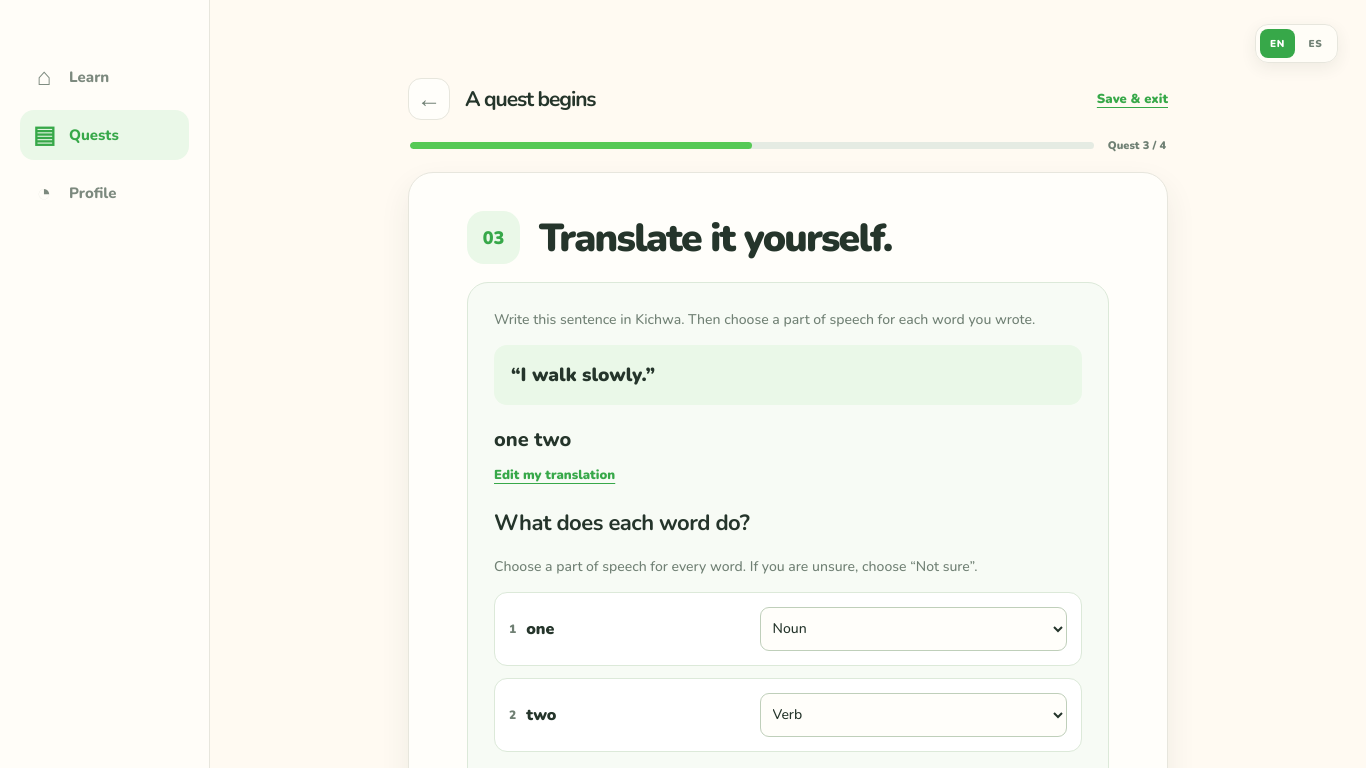
Test: rebuilds word labels after the user edits their translation
Click the button "Edit my translation" at (555, 475), box [494,466,615,484]
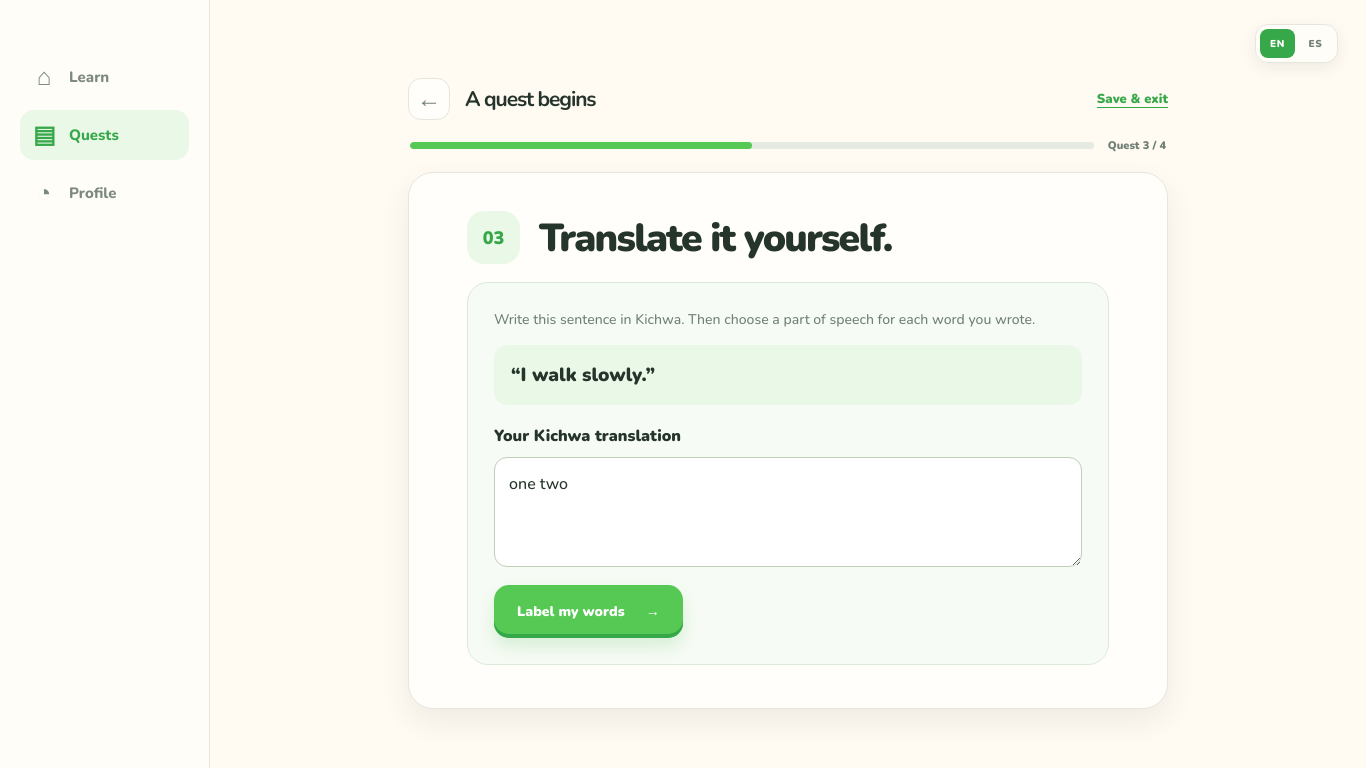
Replace the text in the text box labelled "Your Kichwa translation" with "three" at (788, 512), box [494,457,1082,567]
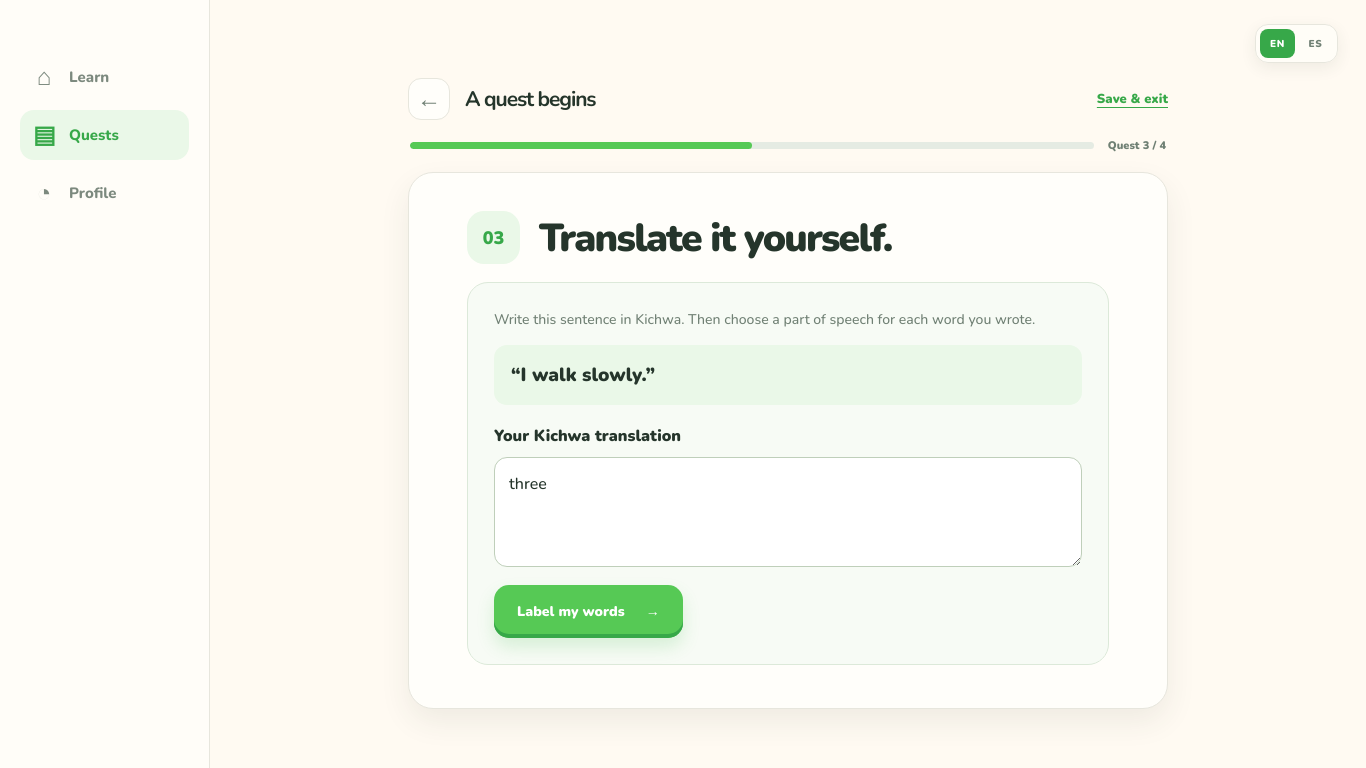
Click the button "Label my words →" at (588, 612), box [494,585,683,638]
(page scrolled)
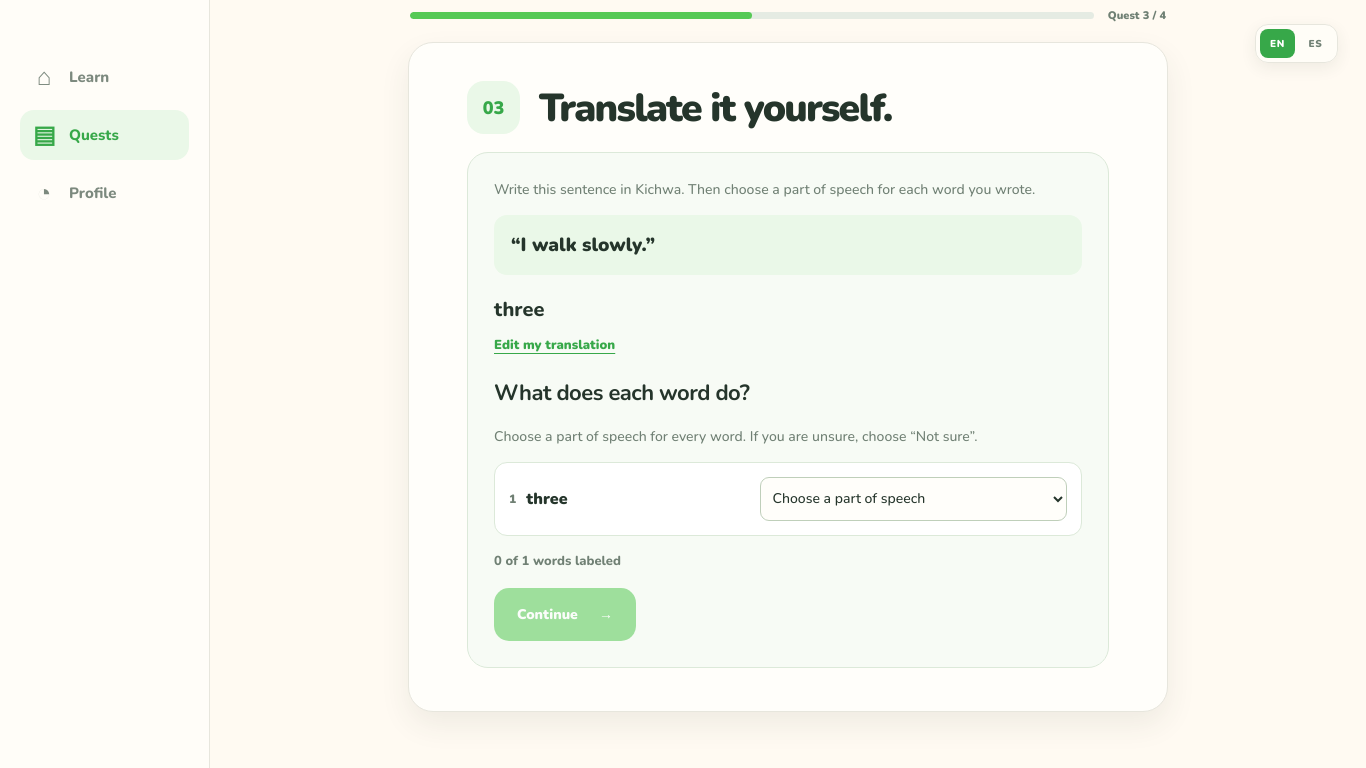
Now the number of dropdowns is 1, box [760,477,1067,521]
Now the dropdown shows "Choose a part of speech", box [760,477,1067,521]
Now the button "Continue →" is disabled, box [494,588,636,641]
